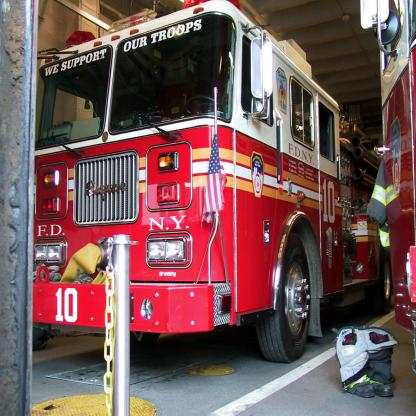Truck: (32, 0, 392, 363)
